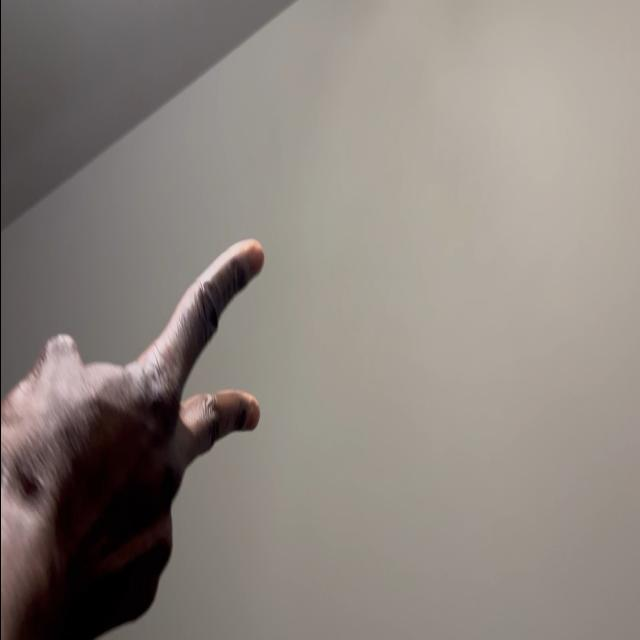Scissors: (0, 237, 266, 640)
